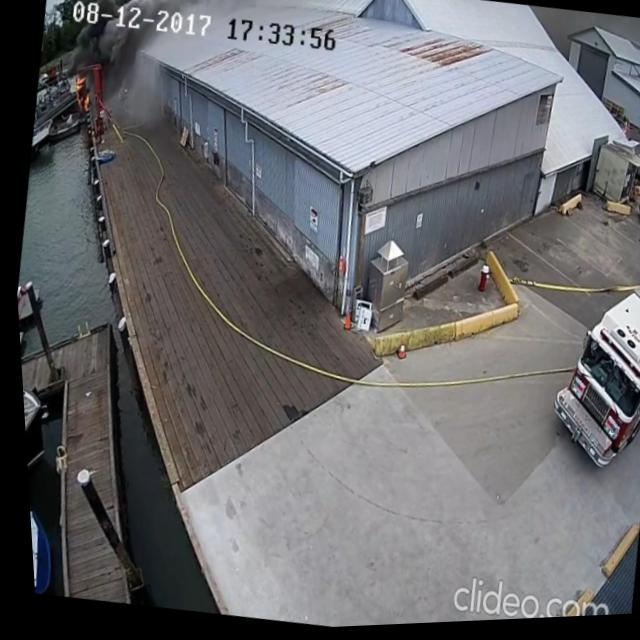fire: (67, 72, 96, 117)
